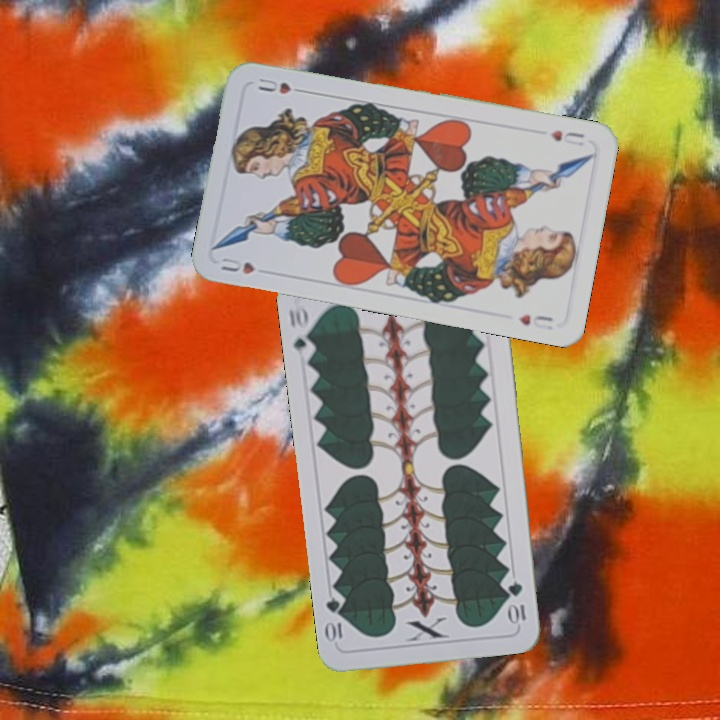G10: (284, 301, 317, 361), (504, 577, 528, 627)
HU: (215, 253, 257, 277), (546, 126, 588, 149)
